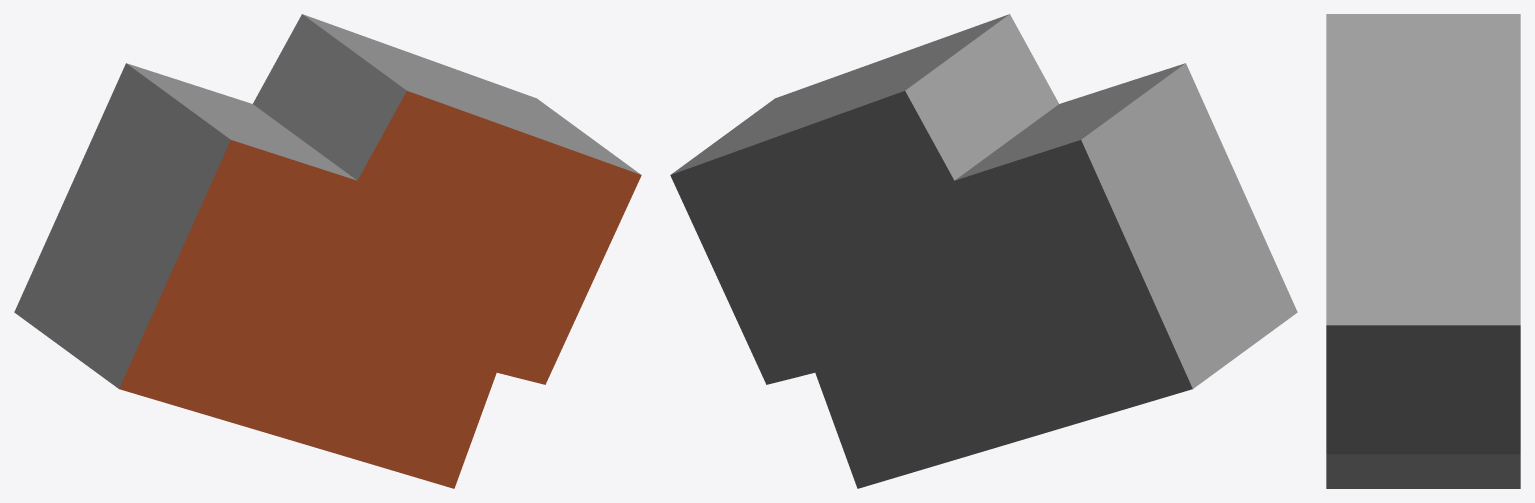
Rendered from construction_5821_assumed_A_Casa_h6m.obj.
The picture shows the model from 3 angles, left to right: view 1: azimuth 30°, elevation 25°; view 2: azimuth 150°, elevation 25°; view 3: azimuth 270°, elevation 25°; orthographic projection. The views are drawn at different scales.
Parts seen in each view (by area): view 1: construction_5821_assumed_A_Casa; view 2: construction_5821_assumed_A_Casa; view 3: construction_5821_assumed_A_Casa.
Boxes of the visible parts, left/top/right/bottom form: construction_5821_assumed_A_Casa: left=14, top=14, right=641, bottom=488; construction_5821_assumed_A_Casa: left=670, top=14, right=1297, bottom=488; construction_5821_assumed_A_Casa: left=1326, top=14, right=1520, bottom=488.
Size of the model in its own units: 17.27 by 12.94 by 6.
